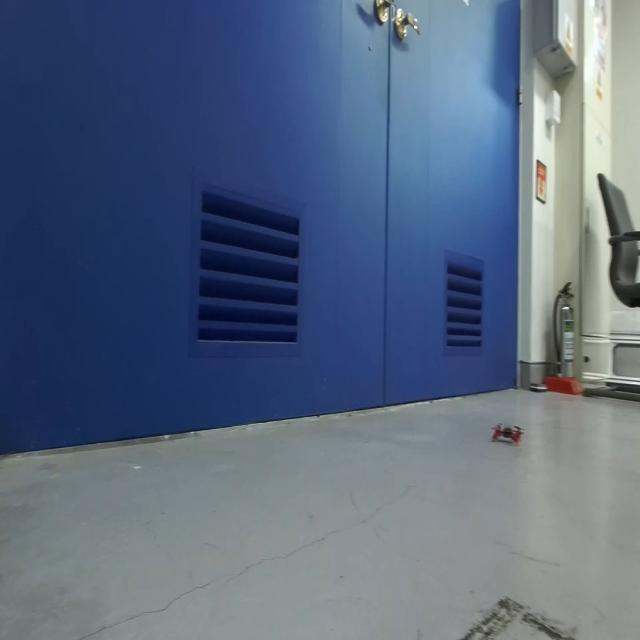crazyflie: (492, 416, 528, 448)
